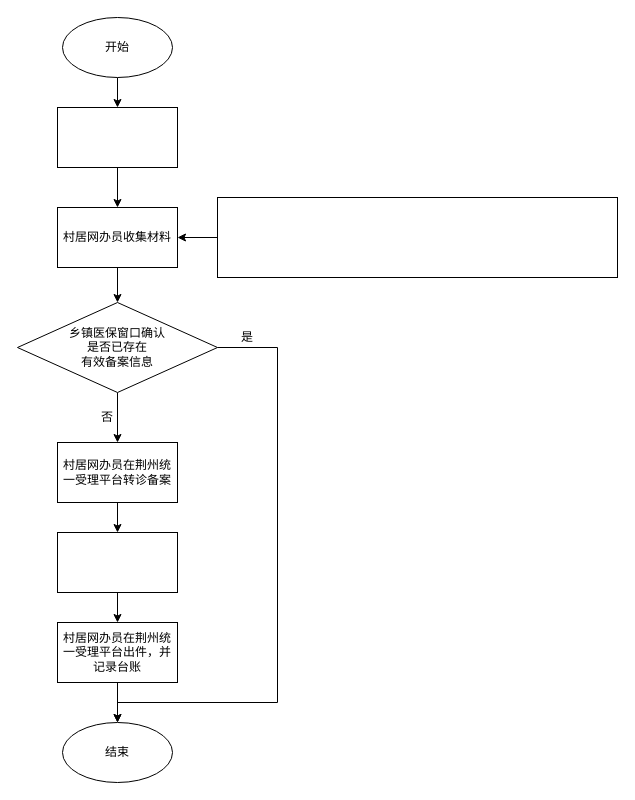
This 635x800 diagram has some shape labels left out. Here are the shapes that lost their labels. From the top down, the centre of each, then its label:
(x=117, y=137): 异地就医备案
(x=417, y=237): 所需材料： 1、有效身份凭证（社会保障卡或医保电子凭证或身份证件或户口本） 2、异地就医登记备案表 3、具有转诊资质的定点医疗机构开具的转诊转院证明材料
(x=117, y=562): 乡镇医保窗口在医保专网审核备案信息
